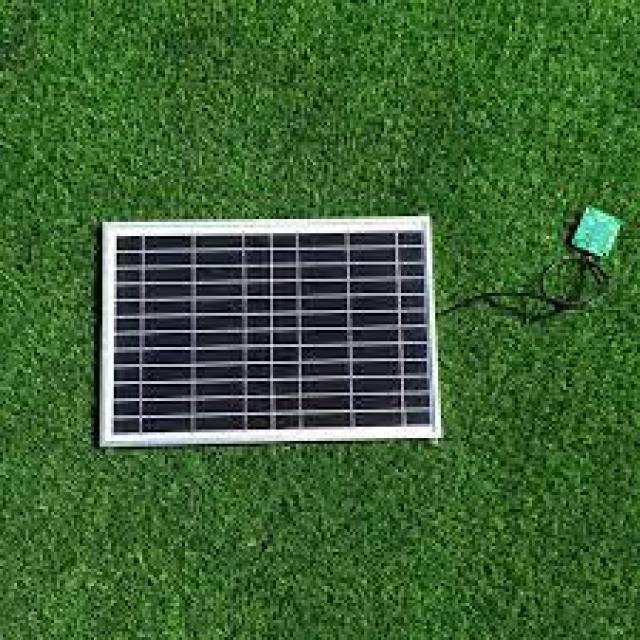no faulty: (101, 229, 425, 435)
